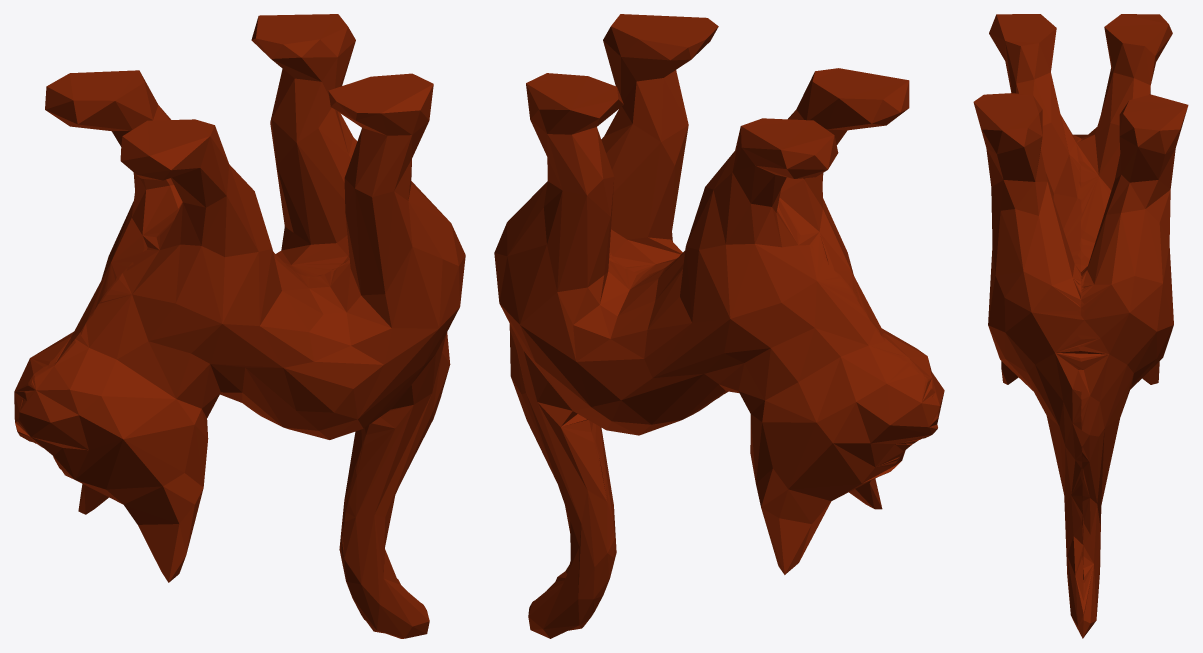
File: Cat.obj
3 views of the same model, side by side, from view 1: azimuth 30°, elevation 25°; view 2: azimuth 150°, elevation 25°; view 3: azimuth 270°, elevation 25° (orthographic). The views are drawn at different scales.
Parts seen in each view (by area): view 1: polySurface1 gato_3; view 2: polySurface1 gato_3; view 3: polySurface1 gato_3.
Boxes of the visible parts, bbox=[...] form: polySurface1 gato_3: bbox=[14, 14, 465, 638]; polySurface1 gato_3: bbox=[494, 14, 944, 638]; polySurface1 gato_3: bbox=[973, 14, 1188, 638].
Bounding box in the file's own units: 5.12 × 6.81 × 2.69.
